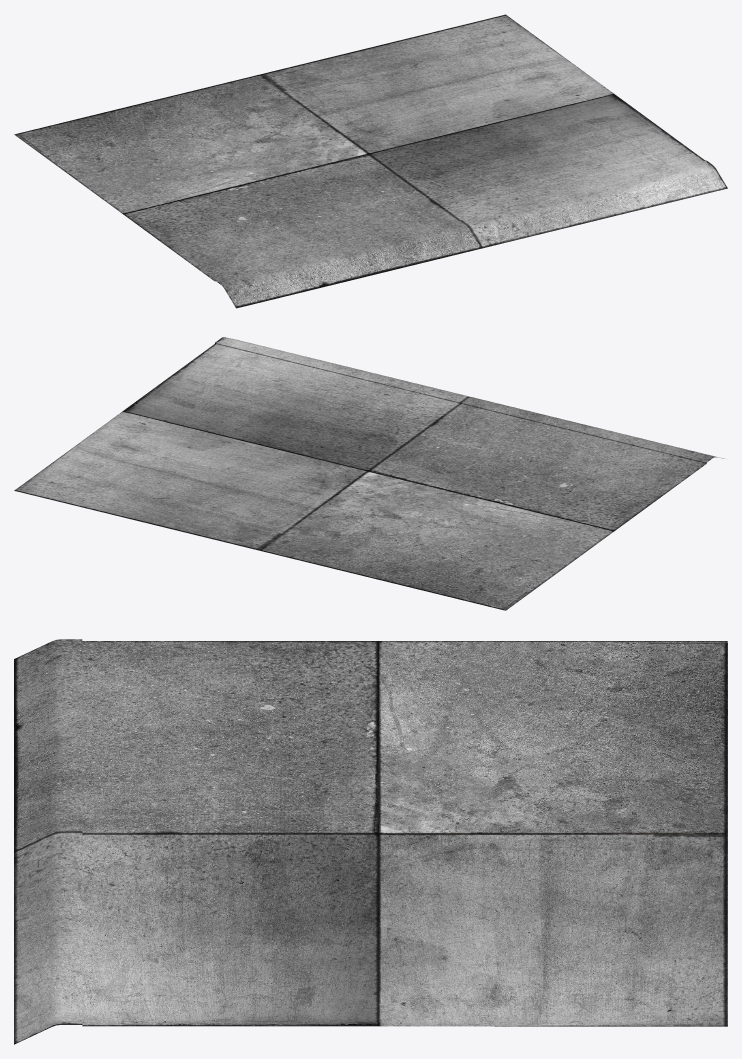
Rendered from sidewalk_temp.fbx.
3 renders of one model, top to bottom at view 1: azimuth 30°, elevation 25°; view 2: azimuth 150°, elevation 25°; view 3: azimuth 270°, elevation 25°, orthographic. The views are drawn at different scales.
Parts seen in each view (by area): view 1: sidewalk_piece_small; view 2: sidewalk_piece_small; view 3: sidewalk_piece_small.
Part boxes in pixels (x1,y1,x2,y2): sidewalk_piece_small: [14, 14, 727, 308]; sidewalk_piece_small: [14, 337, 724, 610]; sidewalk_piece_small: [14, 639, 727, 1044].
Size of the model in its own units: 468 by 11.28 by 366.
